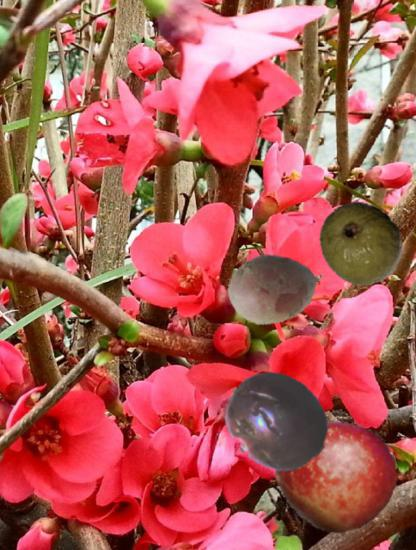Guava: (317, 199, 406, 288)
Nectarine: (274, 412, 398, 536)
Passion: (222, 366, 331, 475)
Potato: (226, 244, 320, 338)
